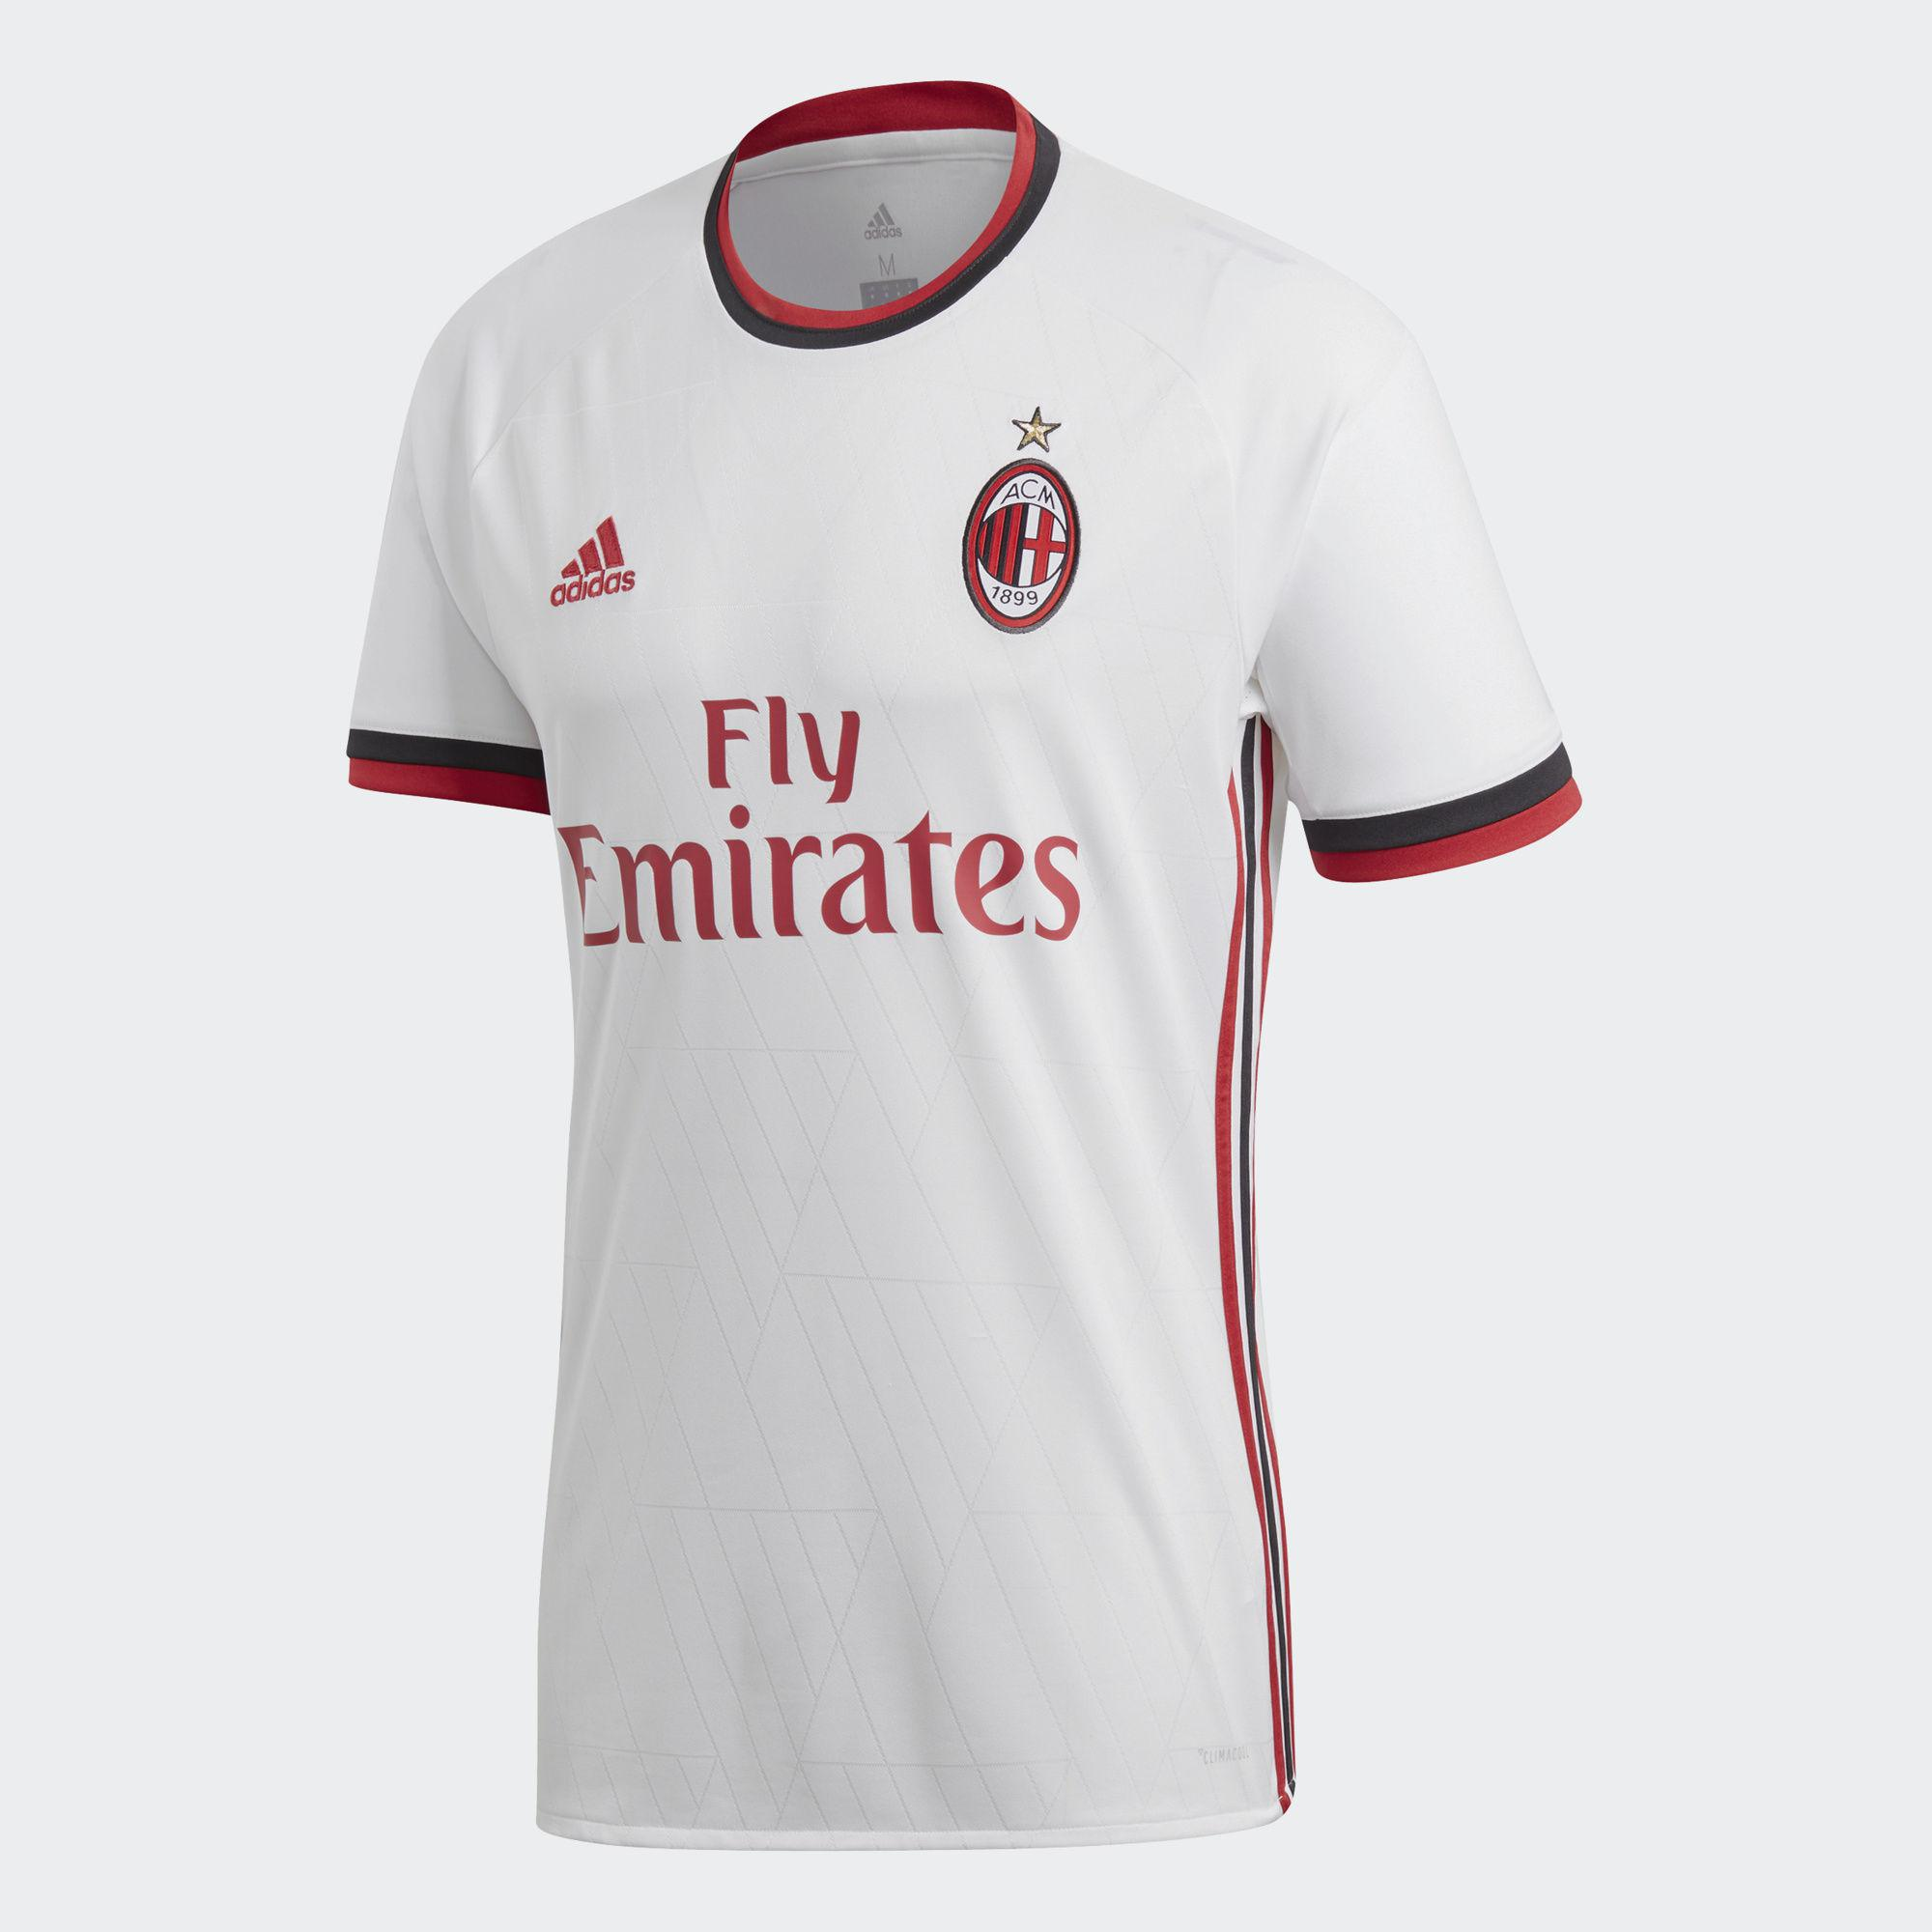teeshirt: (303, 60, 1716, 1849)
